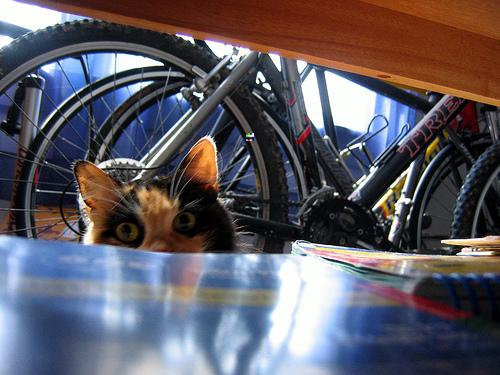car: (1, 18, 500, 256)
cat: (73, 138, 241, 252)
